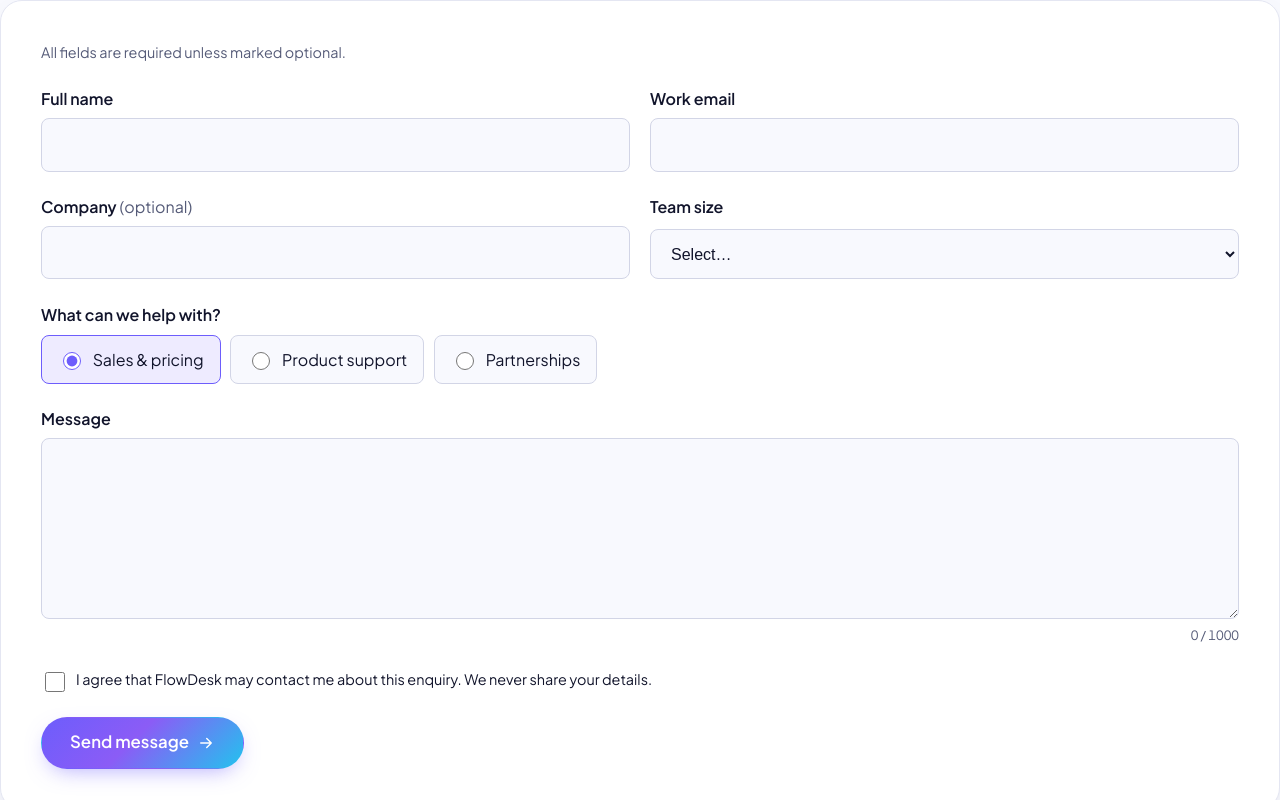
it: ContactForm › submits normalised data and shows a success state
Type "Anusha V" into the field labelled "Full name". click: (336, 145)
box: [41, 118, 630, 172]
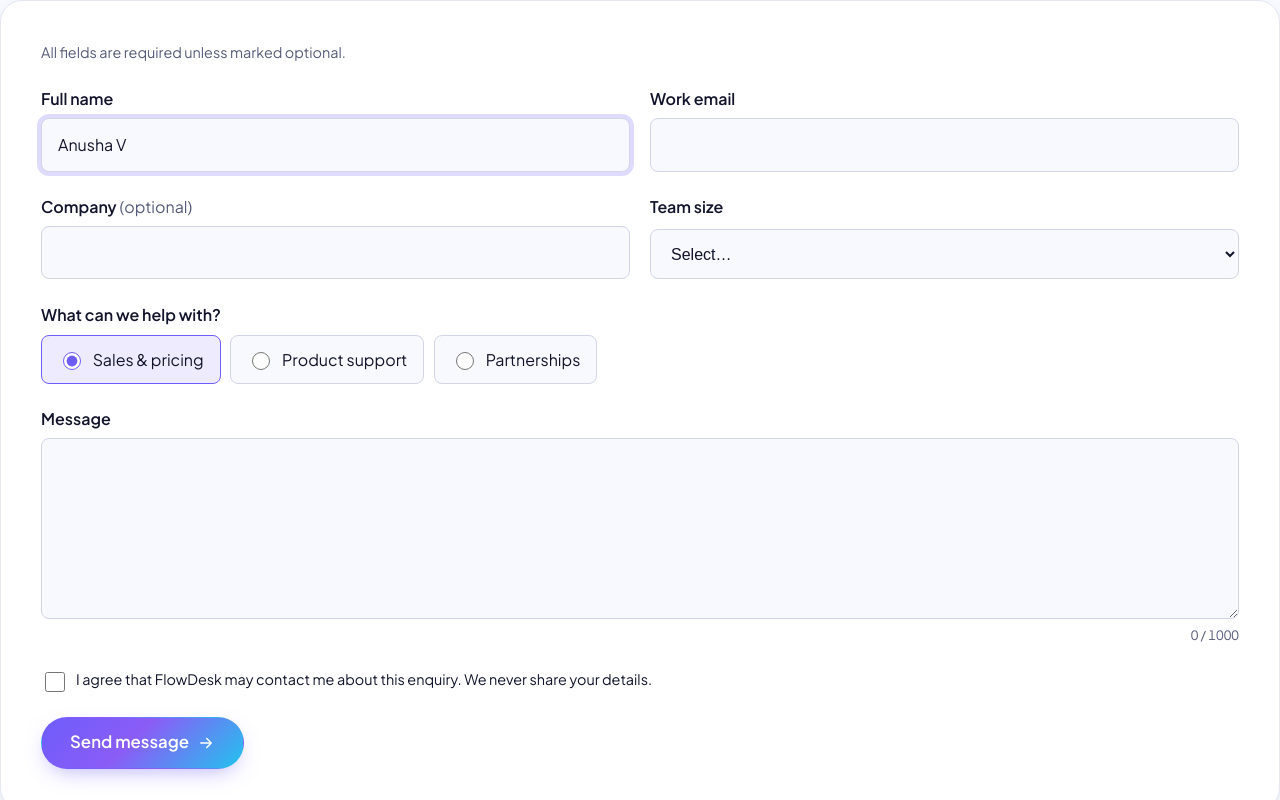
Type "anusha@example.com" into the field labelled "Work email". click: (944, 145)
box: [650, 118, 1239, 172]
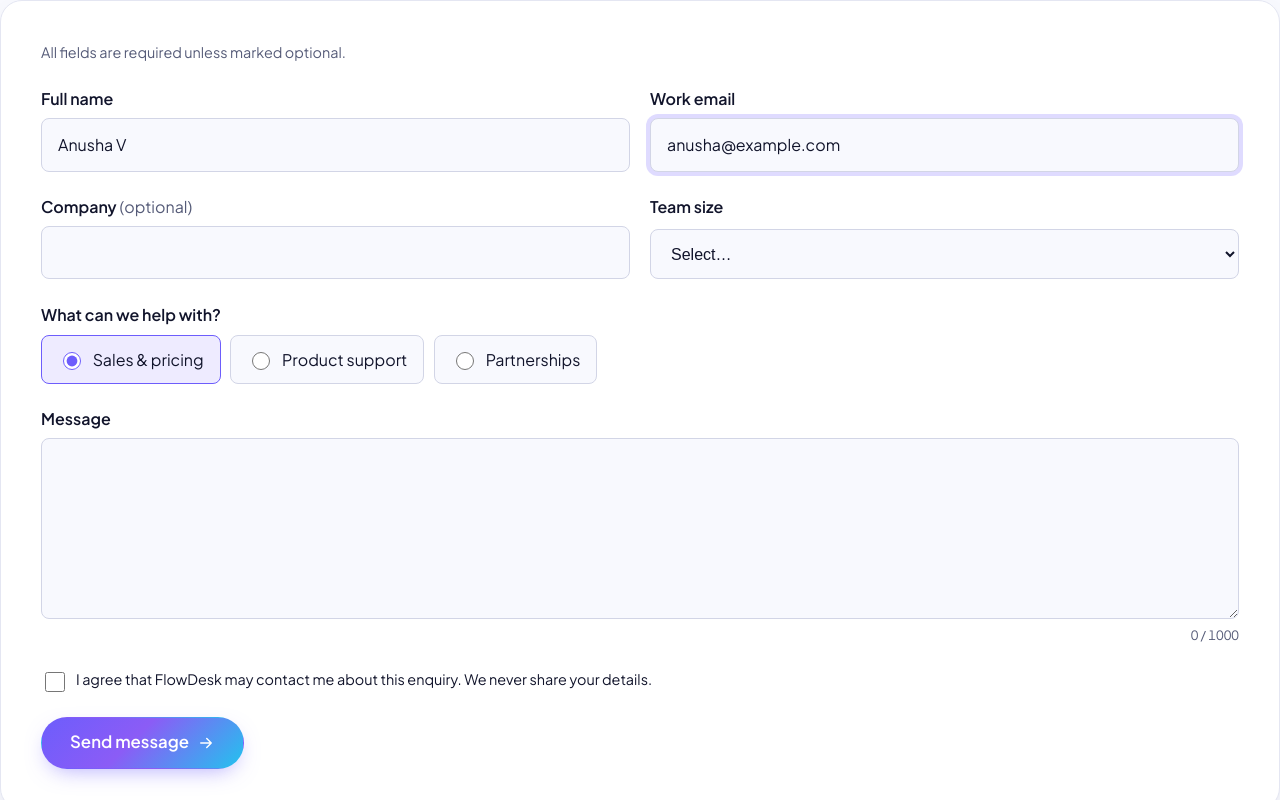
Select "6–20 people" in the dropdown labelled "Team size". click: (944, 254)
box: [650, 229, 1239, 279]
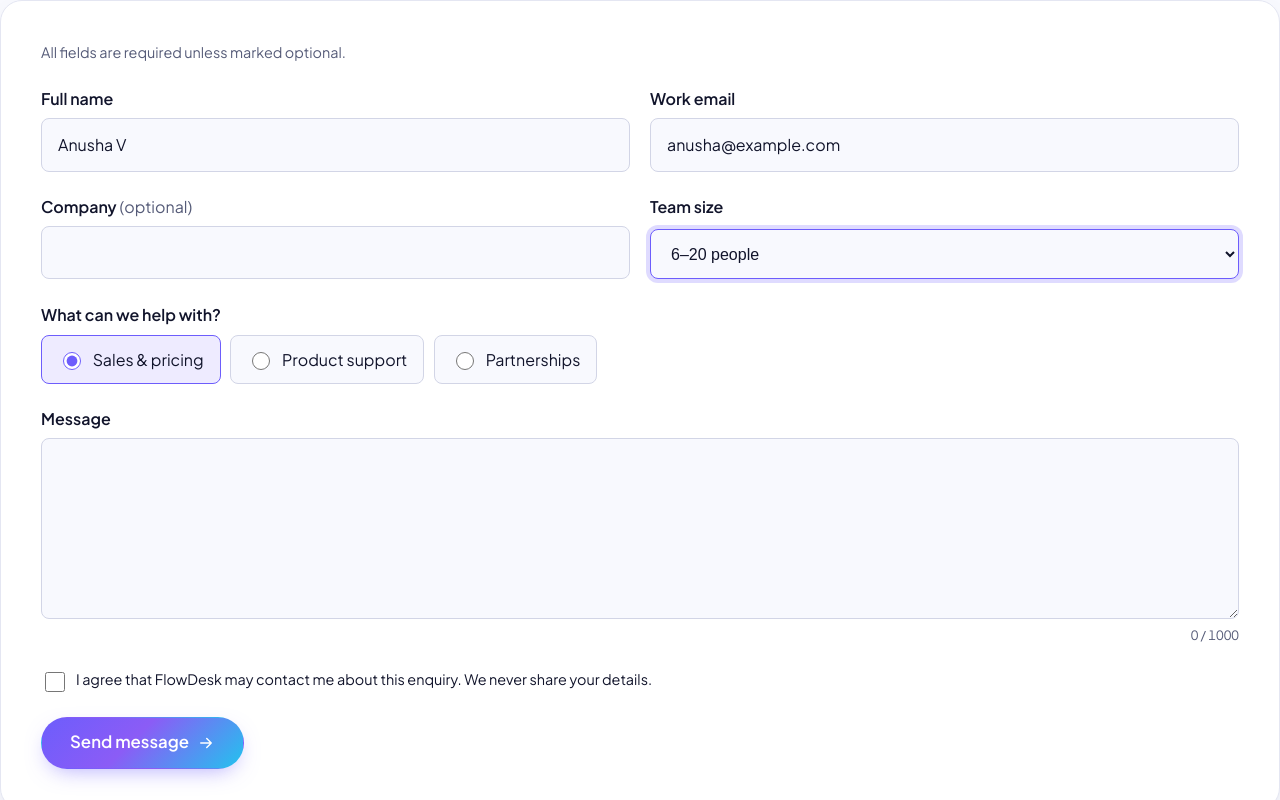
Type "We would like a demo for our engineering team." into the text box labelled "Message". click: (640, 528)
box: [41, 438, 1239, 619]
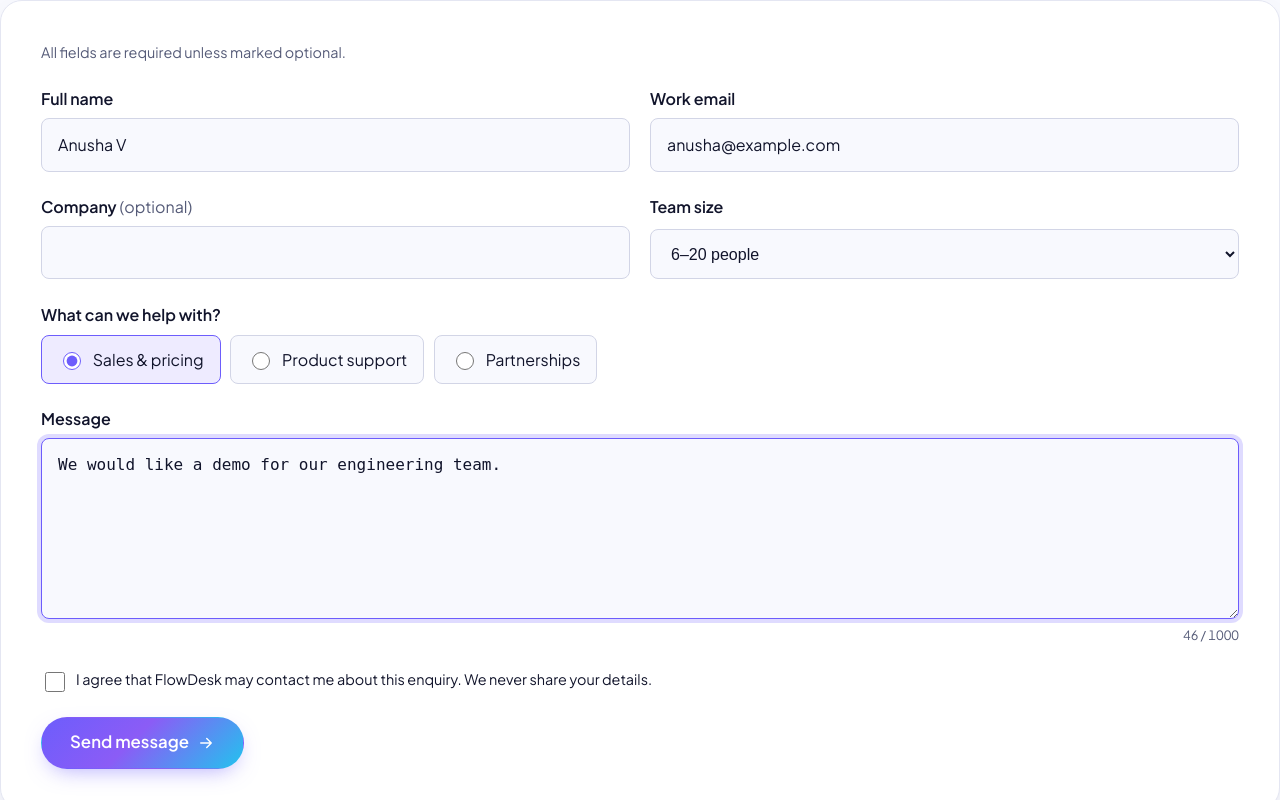
Click the checkbox. click: (55, 682)
box: [45, 672, 65, 692]
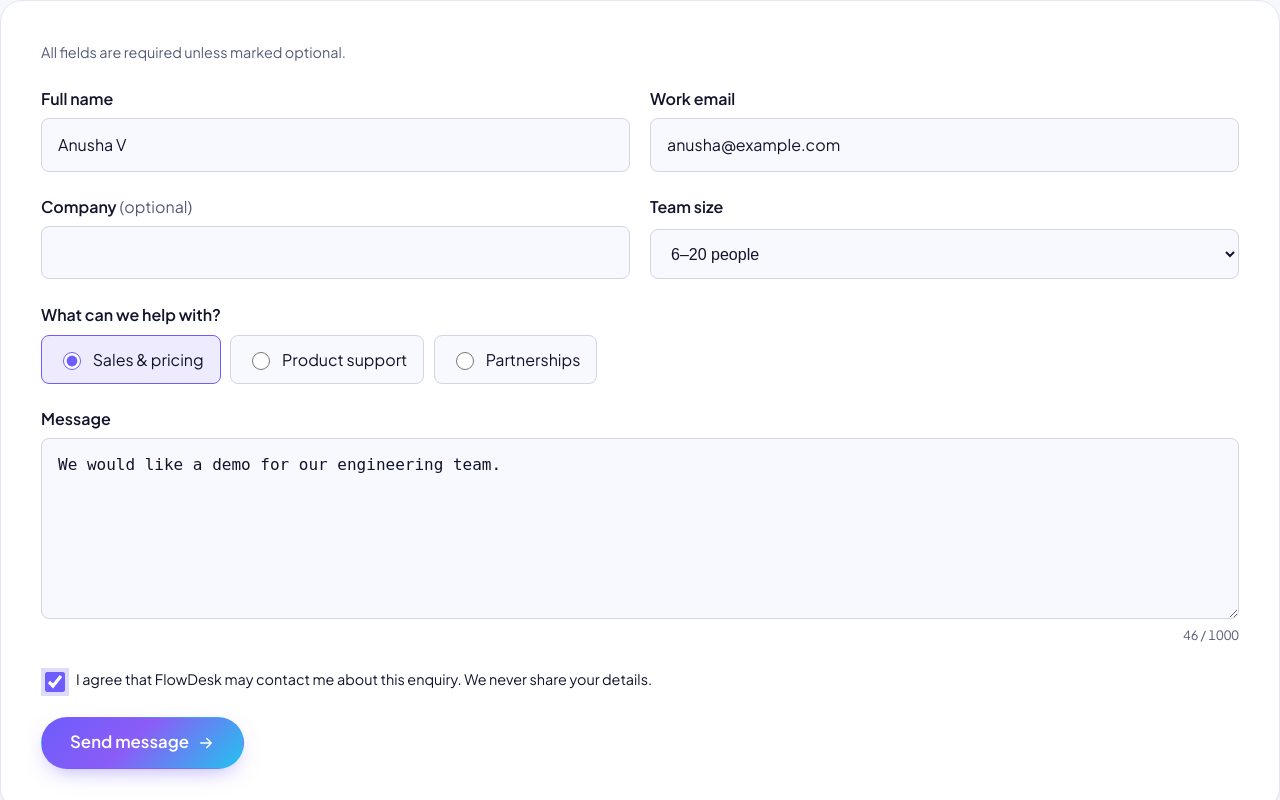
Click the button "Send message". click: (142, 743)
box: [41, 717, 244, 769]
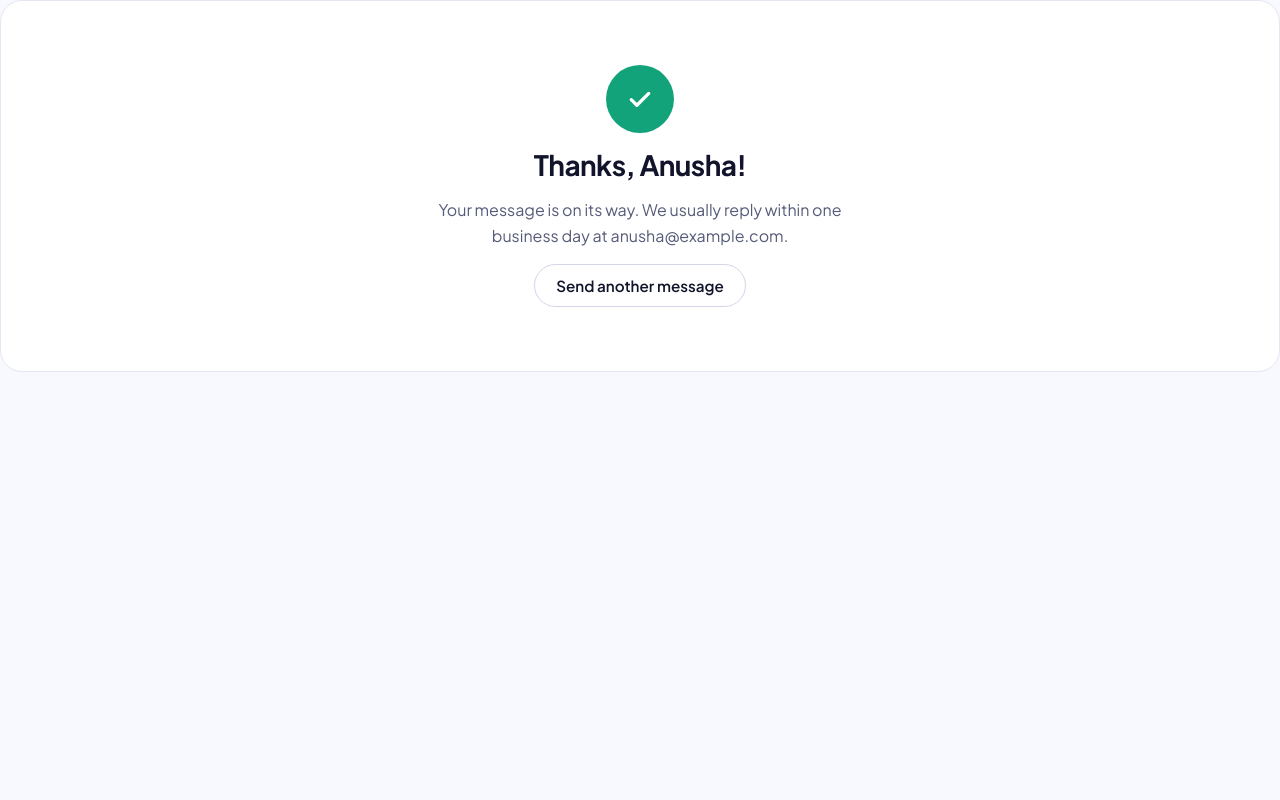
Now the heading "Thanks, Anusha!" is shown, box [534, 149, 746, 181]
